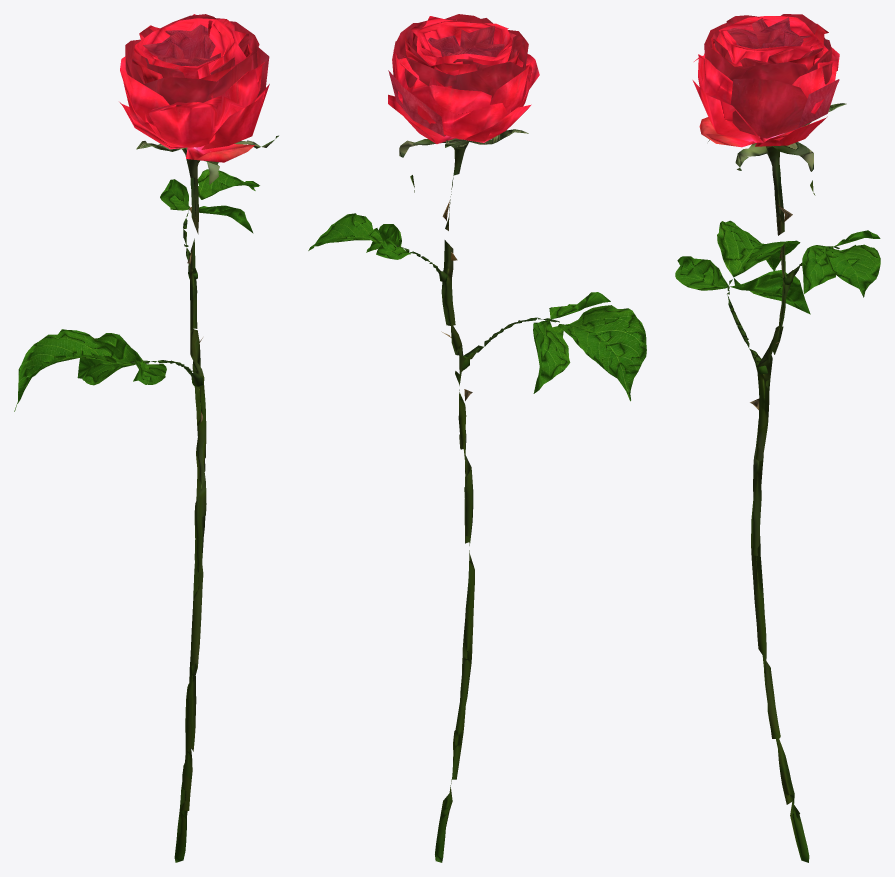
File: garden-rose.glb
The picture shows the model from 3 angles, left to right: view 1: azimuth 30°, elevation 25°; view 2: azimuth 150°, elevation 25°; view 3: azimuth 270°, elevation 25°; orthographic projection. The views are drawn at different scales.
Parts seen in each view (by area): view 1: petal_021_Material_0, leaf_001_Material.003_0, stem_001_Material.001_0, petal_003-5p_Material.007_0, petal_006_Material.015_0, petal_042_Material.011_0, petal_036_Material.013_0, petal_044_Material.004_0, petal_001-5p_Material.009_0, petal_002-5p_Material.008_0, stem_002-1_Material.002_0; view 2: leaf_001_Material.003_0, petal_021_Material_0, stem_001_Material.001_0, petal_003-5p_Material.007_0, petal_006_Material.015_0, petal_040_Material.006_0, petal_036_Material.013_0, petal_002-5p_Material.008_0, petal_041_Material.010_0; view 3: leaf_001_Material.003_0, stem_001_Material.001_0, petal_021_Material_0, petal_037_Material.012_0, petal_003-5p_Material.007_0, petal_006_Material.015_0, petal_042_Material.011_0, petal_040_Material.006_0, petal_043_Material.005_0, petal_001-5p_Material.009_0, stem_002-1_Material.002_0, petal_044_Material.004_0 (+1 smaller).
Boxes of the visible parts, x1,y1,x2,y2 form: petal_021_Material_0: [120, 18, 264, 147]; leaf_001_Material.003_0: [14, 169, 259, 411]; stem_001_Material.001_0: [136, 135, 278, 862]; petal_003-5p_Material.007_0: [125, 16, 259, 106]; petal_006_Material.015_0: [143, 24, 220, 66]; petal_042_Material.011_0: [201, 84, 269, 149]; petal_036_Material.013_0: [120, 68, 169, 122]; petal_044_Material.004_0: [186, 144, 254, 162]; petal_001-5p_Material.009_0: [141, 14, 248, 77]; petal_002-5p_Material.008_0: [132, 14, 252, 83]; stem_002-1_Material.002_0: [129, 209, 203, 387]; leaf_001_Material.003_0: [308, 213, 646, 401]; petal_021_Material_0: [393, 16, 539, 139]; stem_001_Material.001_0: [399, 129, 528, 862]; petal_003-5p_Material.007_0: [396, 14, 528, 99]; petal_006_Material.015_0: [427, 26, 504, 56]; petal_040_Material.006_0: [388, 70, 445, 136]; petal_036_Material.013_0: [490, 63, 530, 112]; petal_002-5p_Material.008_0: [405, 32, 519, 74]; petal_041_Material.010_0: [462, 104, 531, 142]; leaf_001_Material.003_0: [675, 220, 880, 314]; stem_001_Material.001_0: [708, 103, 846, 862]; petal_021_Material_0: [694, 15, 839, 113]; petal_037_Material.012_0: [730, 78, 813, 138]; petal_003-5p_Material.007_0: [704, 14, 832, 84]; petal_006_Material.015_0: [727, 17, 810, 49]; petal_042_Material.011_0: [692, 80, 763, 142]; petal_040_Material.006_0: [782, 79, 839, 134]; petal_043_Material.005_0: [755, 116, 827, 146]; petal_001-5p_Material.009_0: [713, 15, 823, 66]; stem_002-1_Material.002_0: [727, 246, 839, 374]; petal_044_Material.004_0: [699, 117, 759, 147].
Size of the model in its own units: 0.1383 by 0.3839 by 0.0861.
17 materials, 17 textured.
